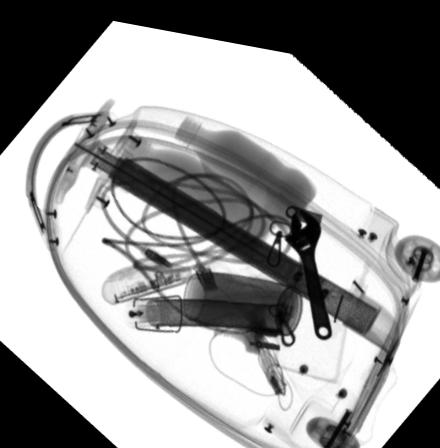Wrench: (283, 197, 331, 327)
